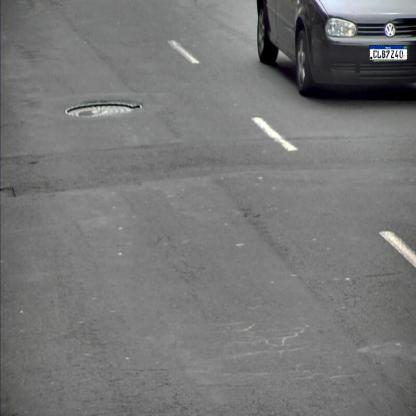PlacaM: (369, 45, 408, 60)
